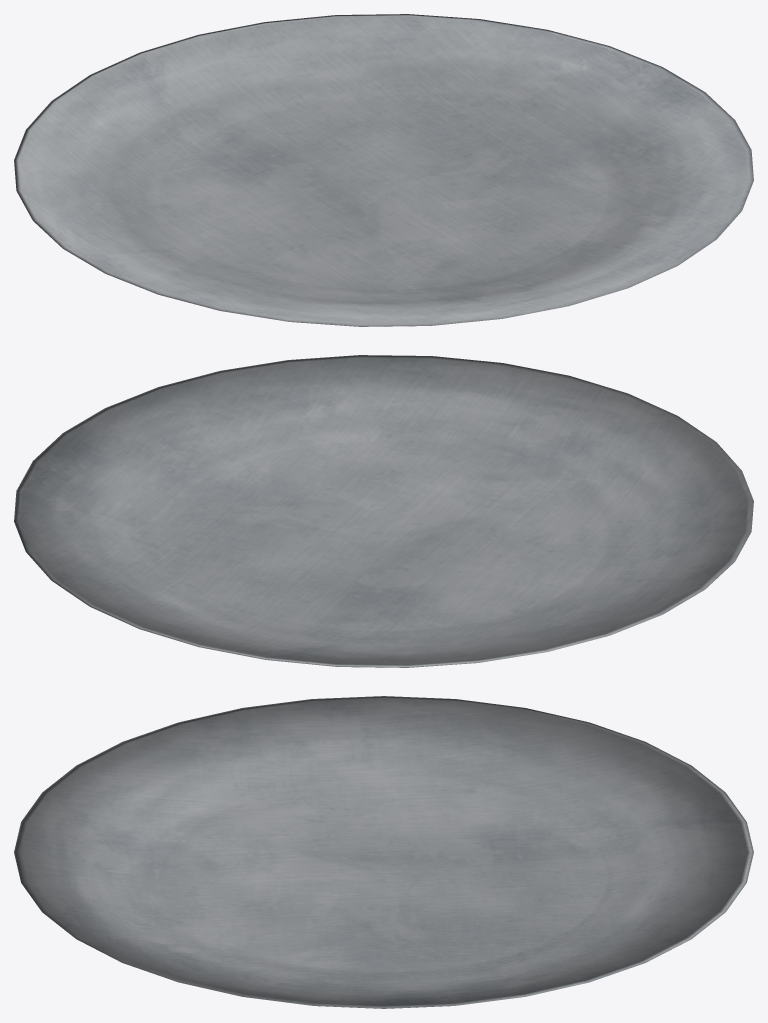
Rendered from PLATE.fbx.
The picture shows the model from 3 angles, top to bottom: view 1: azimuth 30°, elevation 25°; view 2: azimuth 150°, elevation 25°; view 3: azimuth 270°, elevation 25°; orthographic projection.
Visible parts, largest first — view 1: PLATE; view 2: PLATE; view 3: PLATE.
Part boxes in pixels (x1,y1,x2,y2): PLATE: [14, 14, 753, 326]; PLATE: [14, 355, 753, 667]; PLATE: [14, 696, 753, 1008].
Bounding box in the file's own units: 0.7006 × 0.7006 × 0.0309.
